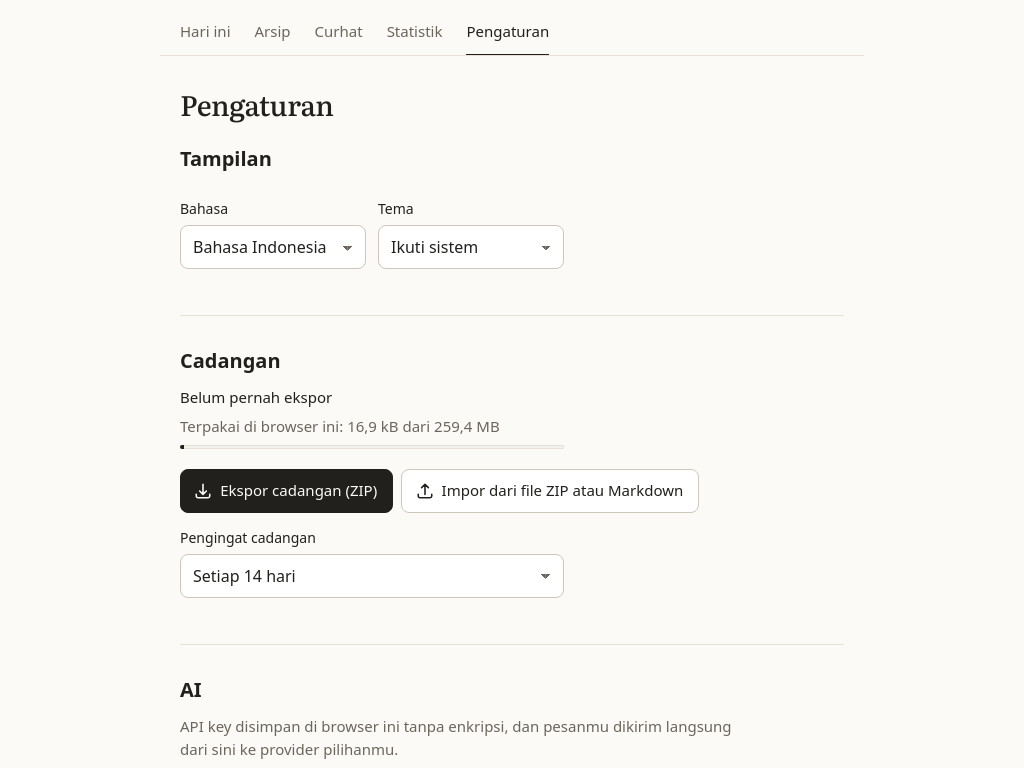
language switch changes UI text
Select "English" in the dropdown labelled "Bahasa" at (273, 247), box [180, 225, 366, 269]
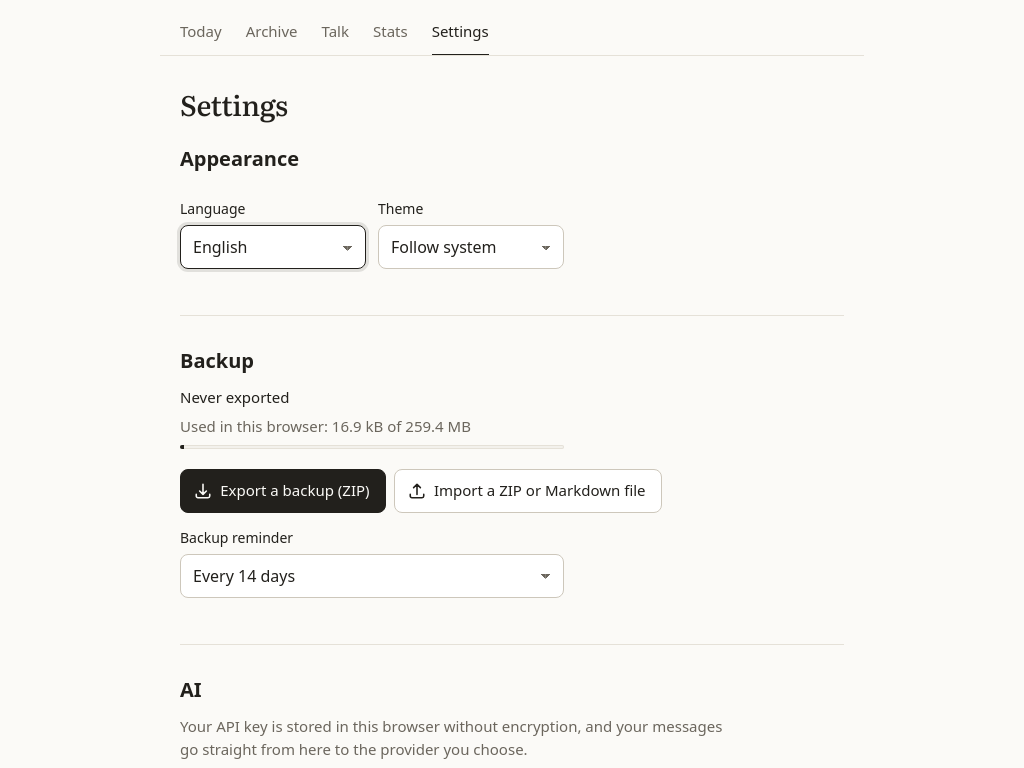
Expected: the link "Settings" is shown, [432, 8, 489, 56]
Select "Bahasa Indonesia" in the dropdown labelled "Language" at (273, 247), box [180, 225, 366, 269]
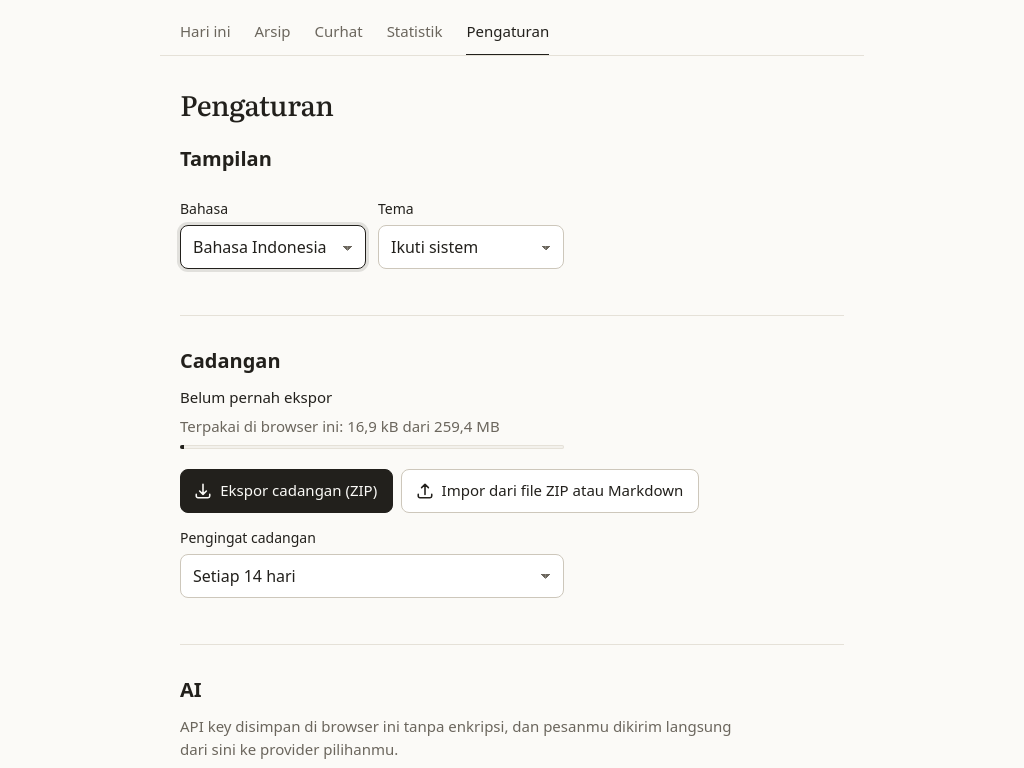
Result: the link "Pengaturan" is shown at [466, 8, 549, 56]
